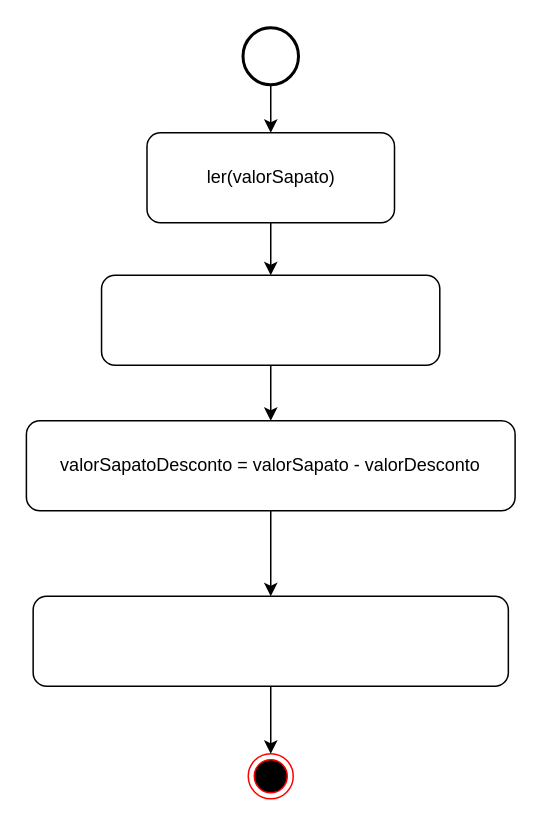
The diagram is 542 pixels wide and 825 high, and some of its shapes have lost their labels. Here are the shapes that lost their labels. From the top down, the centre of each, then its label:
At pixel 270 319: "valorDesconto = valorSapato * 0.12".
At pixel 270 640: "escrever valorSapatoDesconto, valorDesconto".
